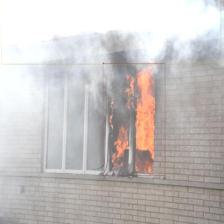fire: (103, 64, 165, 176)
smoke: (1, 0, 221, 64)
